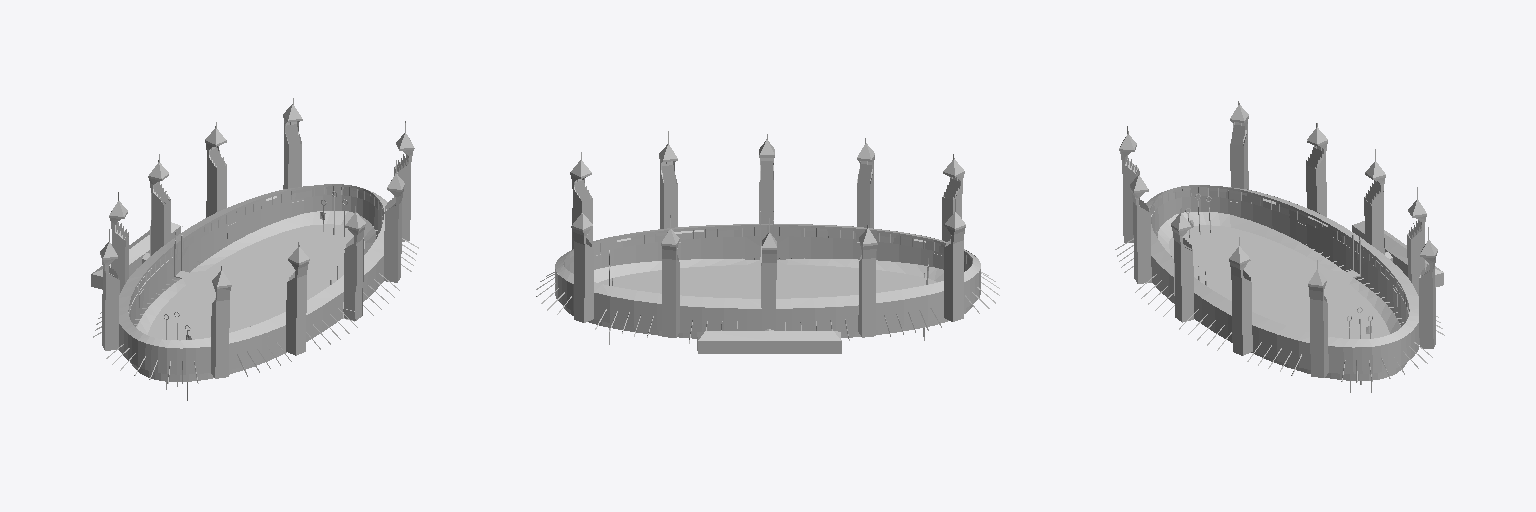
Rendered from stadium.obj.
3 renders of one model, left to right at view 1: azimuth 30°, elevation 25°; view 2: azimuth 150°, elevation 25°; view 3: azimuth 270°, elevation 25°, orthographic.
Visible parts, largest first — view 1: Null DrawCall_0048, Null DrawCall_0051, Null DrawCall_0020, Null DrawCall_0012, Null DrawCall_0008, Null DrawCall_0011, Null DrawCall_0005, Null DrawCall_0014, Null DrawCall_0059, Null DrawCall_0018, Null DrawCall_0013, Null DrawCall_0007 (+9 smaller); view 2: Null DrawCall_0048, Null DrawCall_0051, Null DrawCall_0052, Null DrawCall_0053, Null DrawCall_0009, Null DrawCall_0006, Null DrawCall_0010, Null DrawCall_0007, Null DrawCall_0014, Null DrawCall_0019, Null DrawCall_0013, Null DrawCall_0005 (+14 smaller); view 3: Null DrawCall_0048, Null DrawCall_0051, Null DrawCall_0020, Null DrawCall_0008, Null DrawCall_0013, Null DrawCall_0004, Null DrawCall_0011, Null DrawCall_0014, Null DrawCall_0017, Null DrawCall_0078, Null DrawCall_0005, Null DrawCall_0010 (+9 smaller).
Boxes of the visible parts, <box> form: Null DrawCall_0048: <box>137,211,375,340</box>; Null DrawCall_0051: <box>119,256,383,374</box>; Null DrawCall_0020: <box>151,194,363,320</box>; Null DrawCall_0012: <box>236,195,350,238</box>; Null DrawCall_0008: <box>206,158,296,355</box>; Null DrawCall_0011: <box>111,206,398,292</box>; Null DrawCall_0005: <box>105,164,410,350</box>; Null DrawCall_0014: <box>130,196,379,381</box>; Null DrawCall_0059: <box>152,186,306,348</box>; Null DrawCall_0018: <box>212,117,298,378</box>; Null DrawCall_0013: <box>211,132,301,377</box>; Null DrawCall_0007: <box>206,143,308,355</box>; Null DrawCall_0048: <box>594,259,943,298</box>; Null DrawCall_0051: <box>555,224,980,333</box>; Null DrawCall_0052: <box>697,329,769,353</box>; Null DrawCall_0053: <box>769,329,841,353</box>; Null DrawCall_0009: <box>681,236,759,259</box>; Null DrawCall_0006: <box>774,236,852,258</box>; Null DrawCall_0010: <box>659,157,876,337</box>; Null DrawCall_0007: <box>662,157,874,337</box>; Null DrawCall_0014: <box>563,236,972,338</box>; Null DrawCall_0019: <box>760,157,776,330</box>; Null DrawCall_0013: <box>584,188,962,322</box>; Null DrawCall_0005: <box>572,191,952,321</box>; Null DrawCall_0048: <box>1158,212,1400,338</box>; Null DrawCall_0051: <box>1151,186,1419,373</box>; Null DrawCall_0020: <box>1174,192,1384,322</box>; Null DrawCall_0008: <box>1137,207,1424,295</box>; Null DrawCall_0013: <box>1122,165,1433,348</box>; Null DrawCall_0004: <box>1182,196,1296,238</box>; Null DrawCall_0011: <box>1242,157,1326,355</box>; Null DrawCall_0014: <box>1154,197,1406,380</box>; Null DrawCall_0017: <box>1232,118,1327,377</box>; Null DrawCall_0078: <box>1228,187,1386,347</box>; Null DrawCall_0005: <box>1230,133,1328,377</box>; Null DrawCall_0010: <box>1230,142,1327,355</box>.
Size of the model in its own units: 2605 by 1161 by 2030.